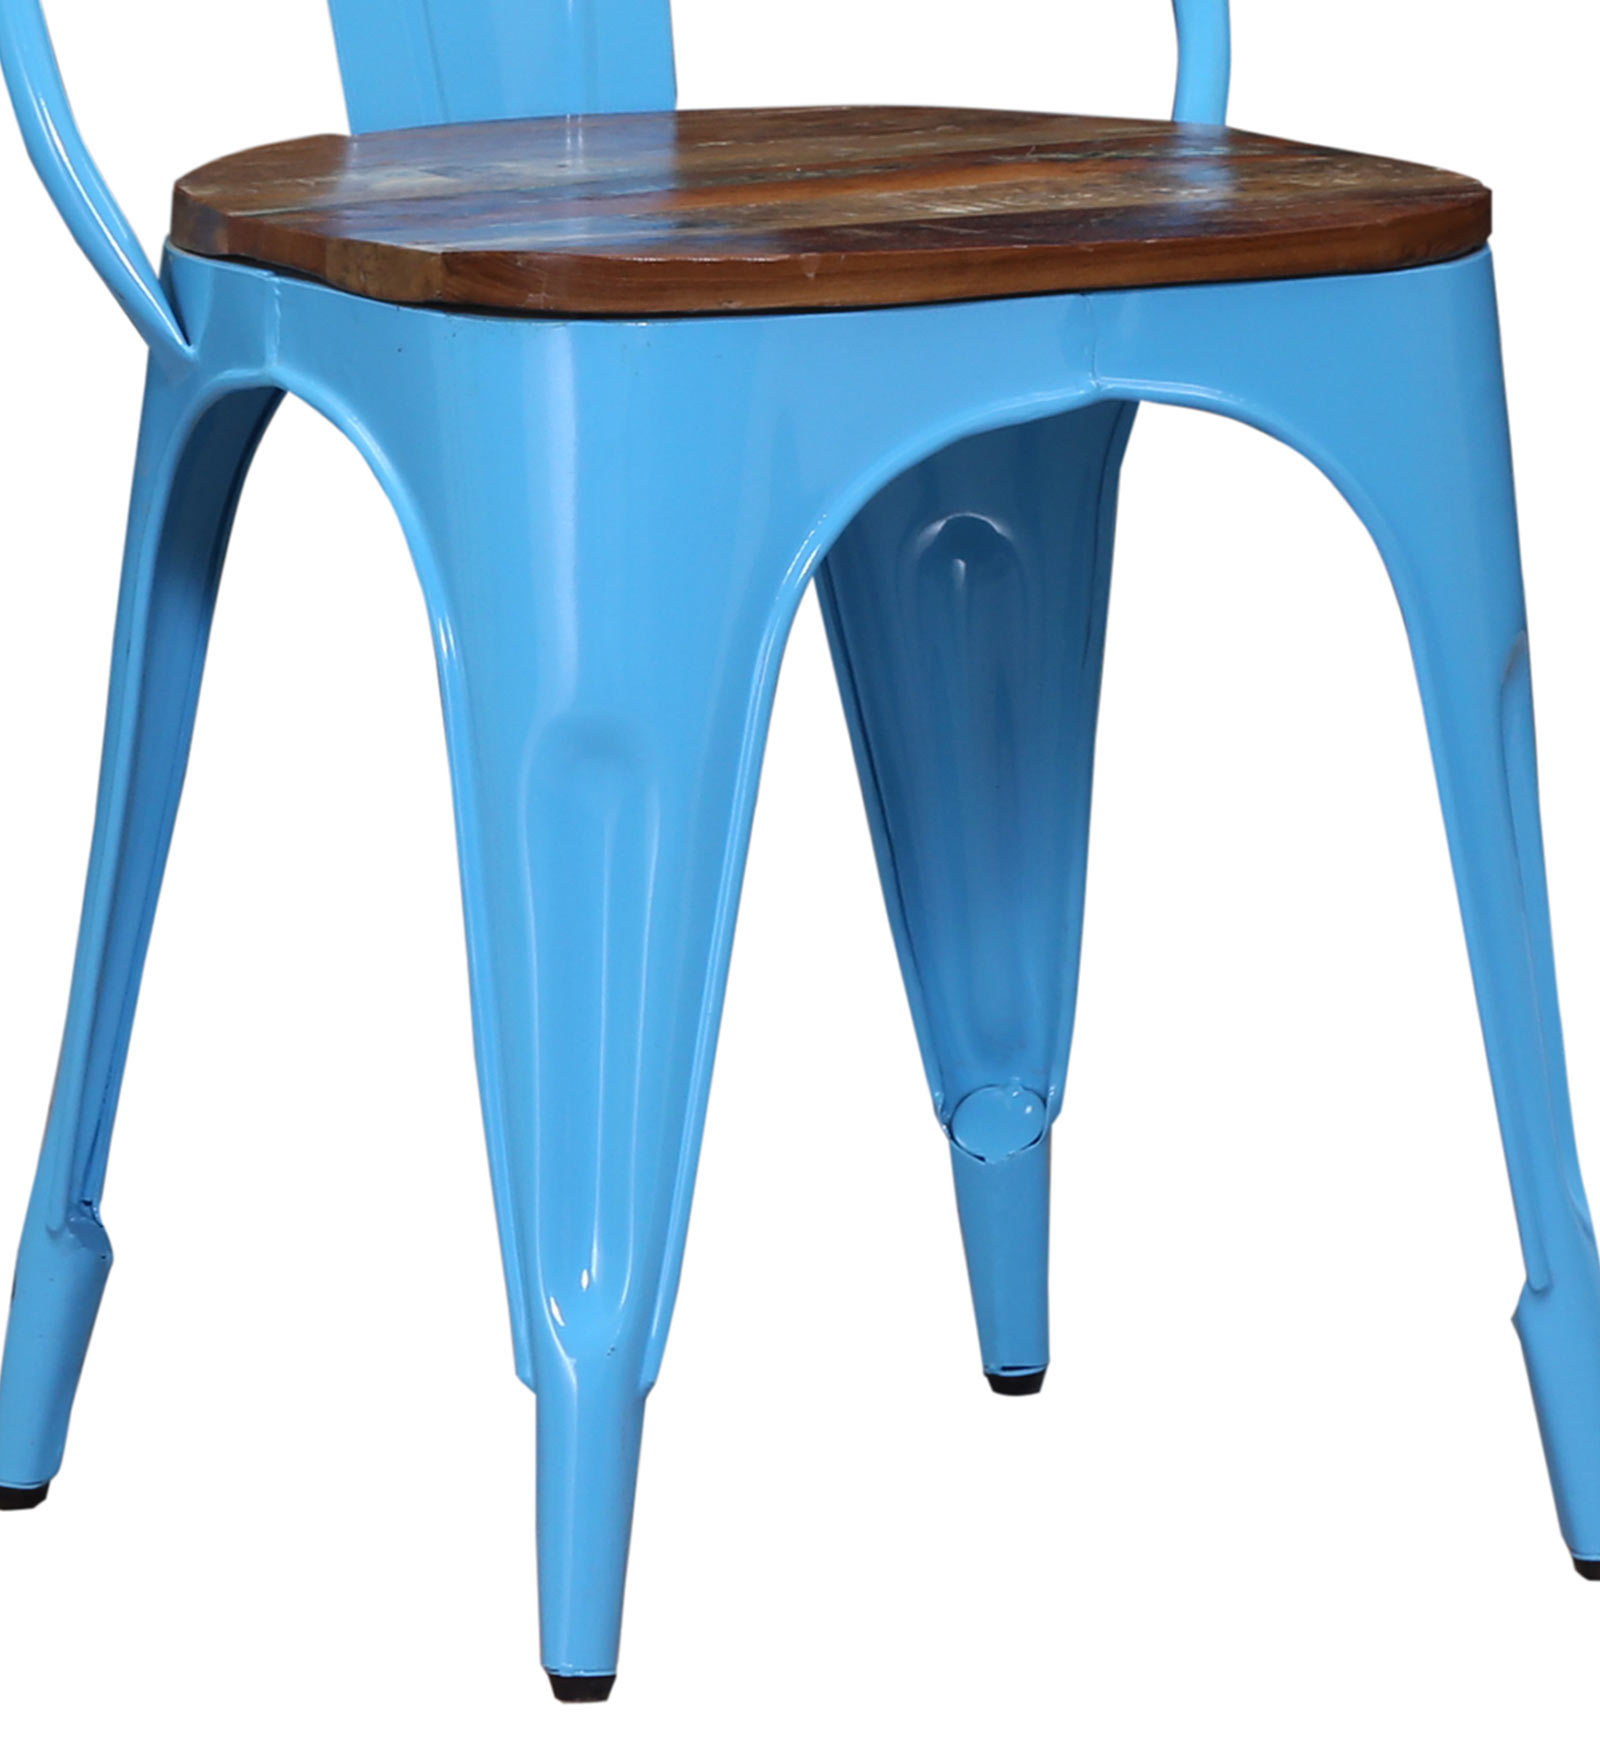Kumtor Metal Chair in Sky Blue Color with Wooden Seat by Bohemiana: (9, 9, 1600, 1709)
